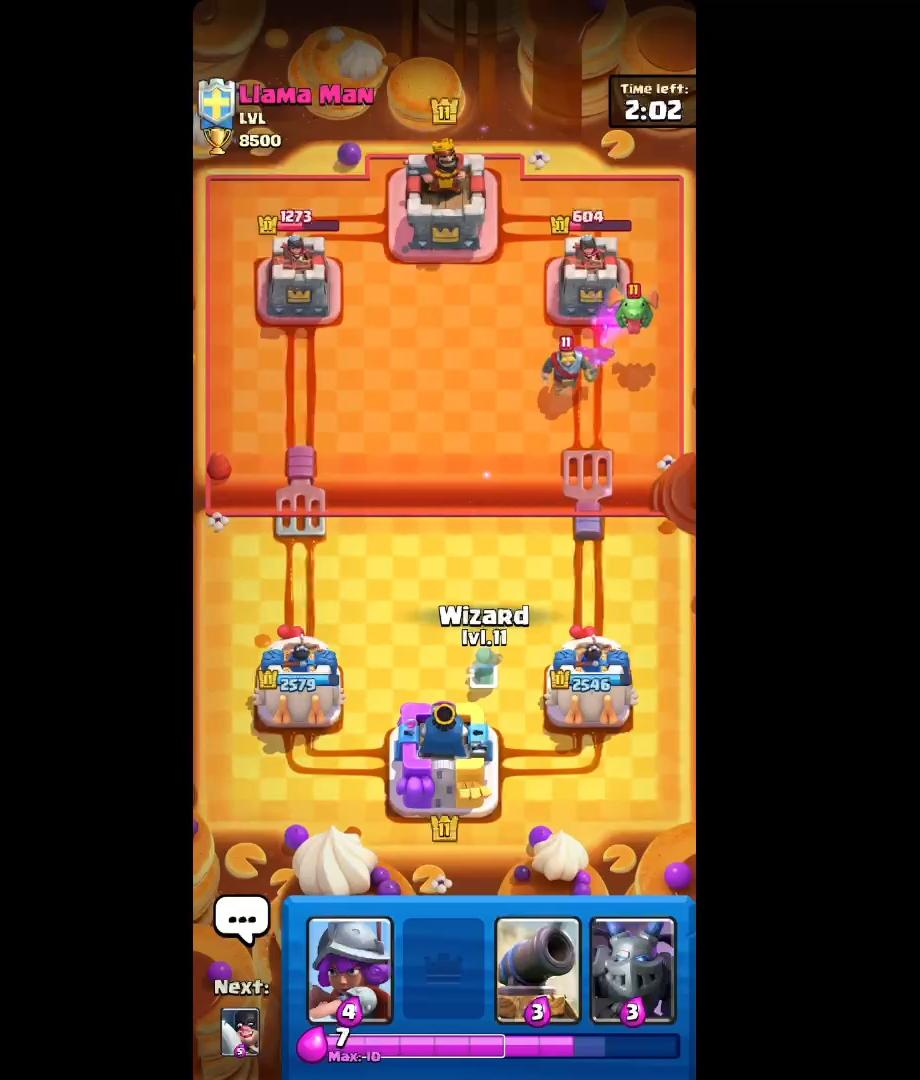Baby Dragon: (602, 281, 669, 336)
Knight: (532, 334, 608, 397)
